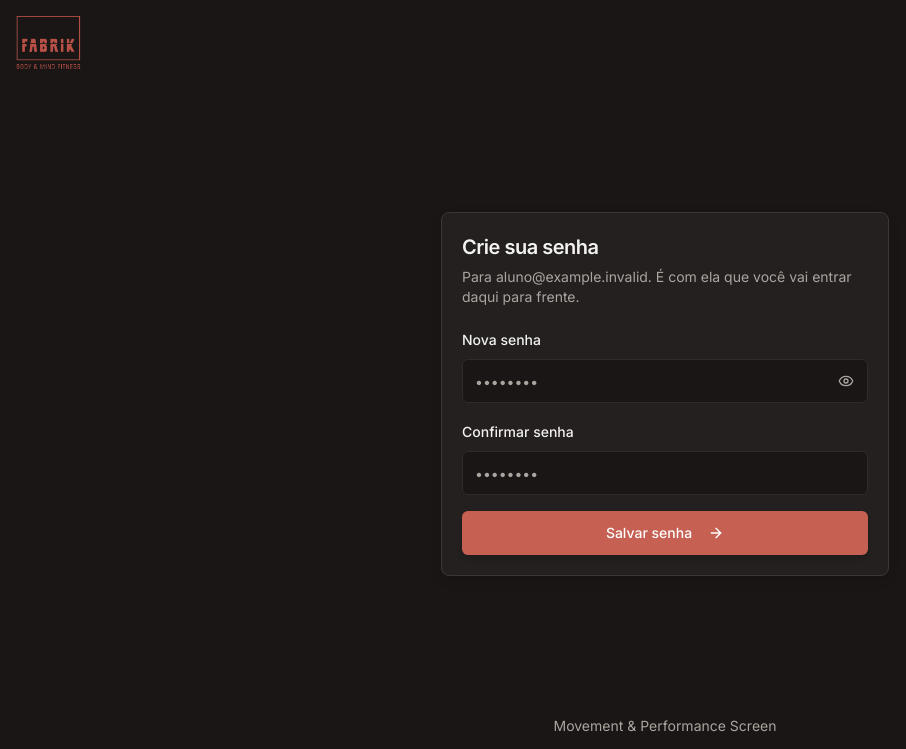
SetPassword › senha diferente da confirmação: não salva
Type "senha-forte-1" into the password field labelled "Nova senha" at coordinates (665, 381), box x1=462 y1=359 x2=868 y2=403
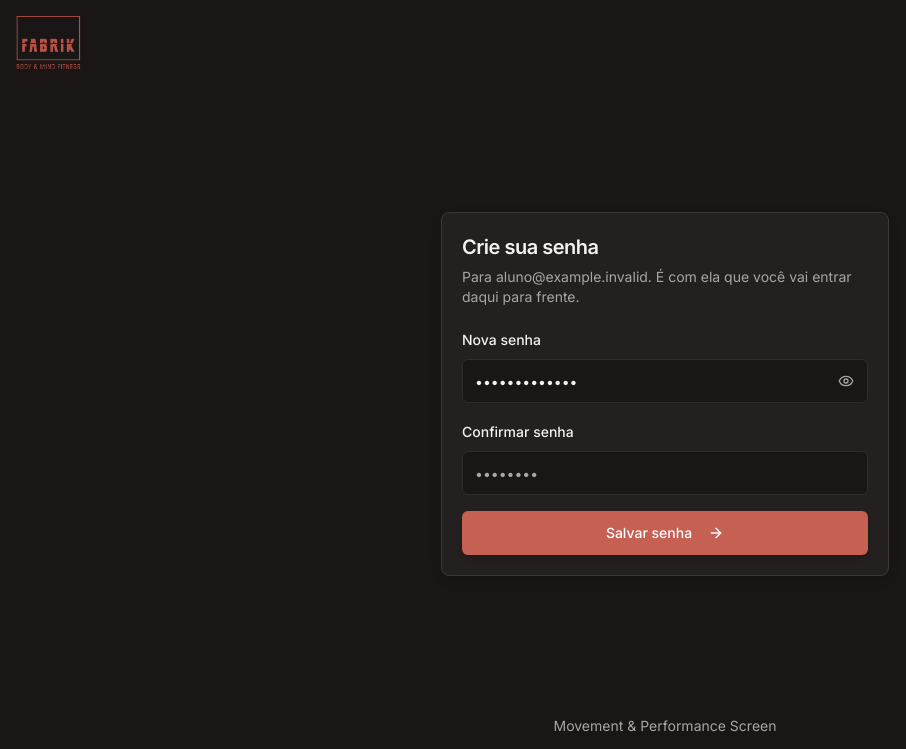
Type "senha-forte-2" into the password field labelled "Confirmar senha" at coordinates (665, 473), box x1=462 y1=451 x2=868 y2=495
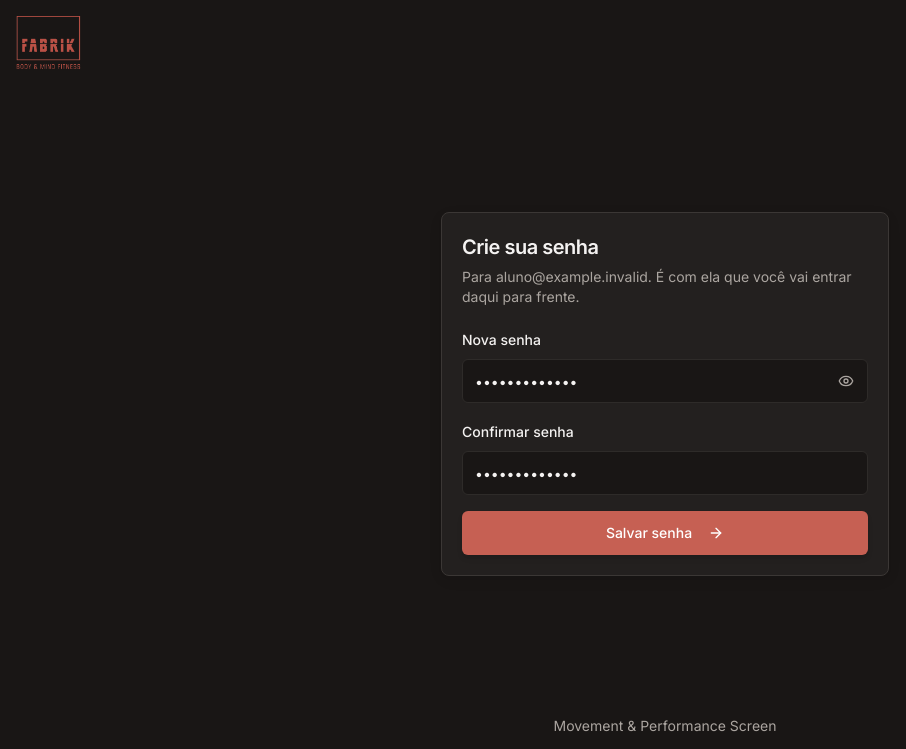
Click the button "Salvar senha" at coordinates (665, 533), box x1=462 y1=511 x2=868 y2=555
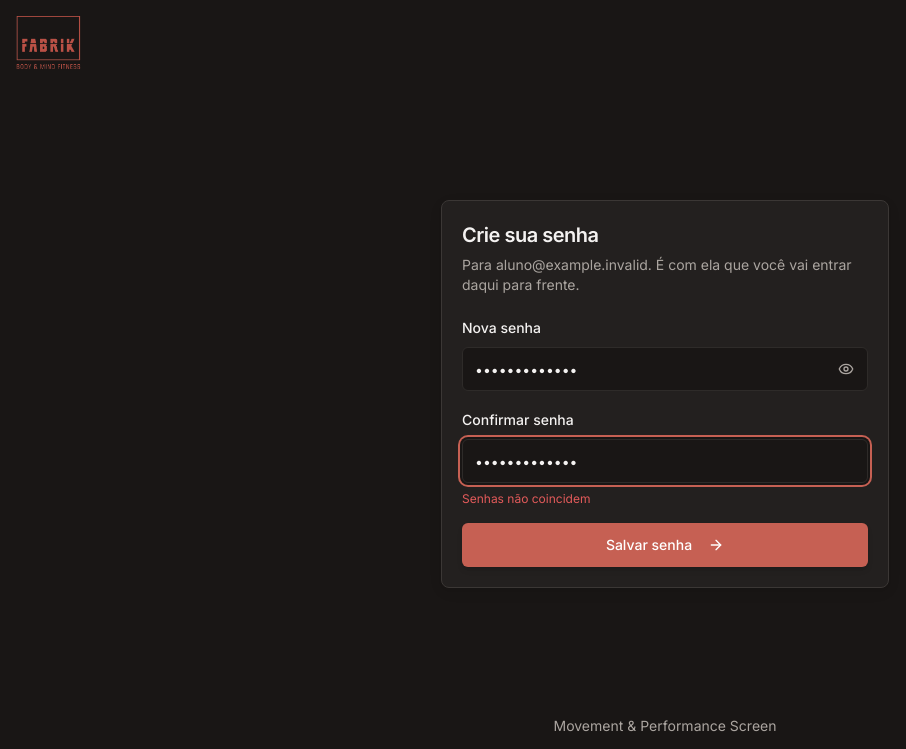
Now the text "Senhas não coincidem" is shown, box x1=462 y1=491 x2=590 y2=506
